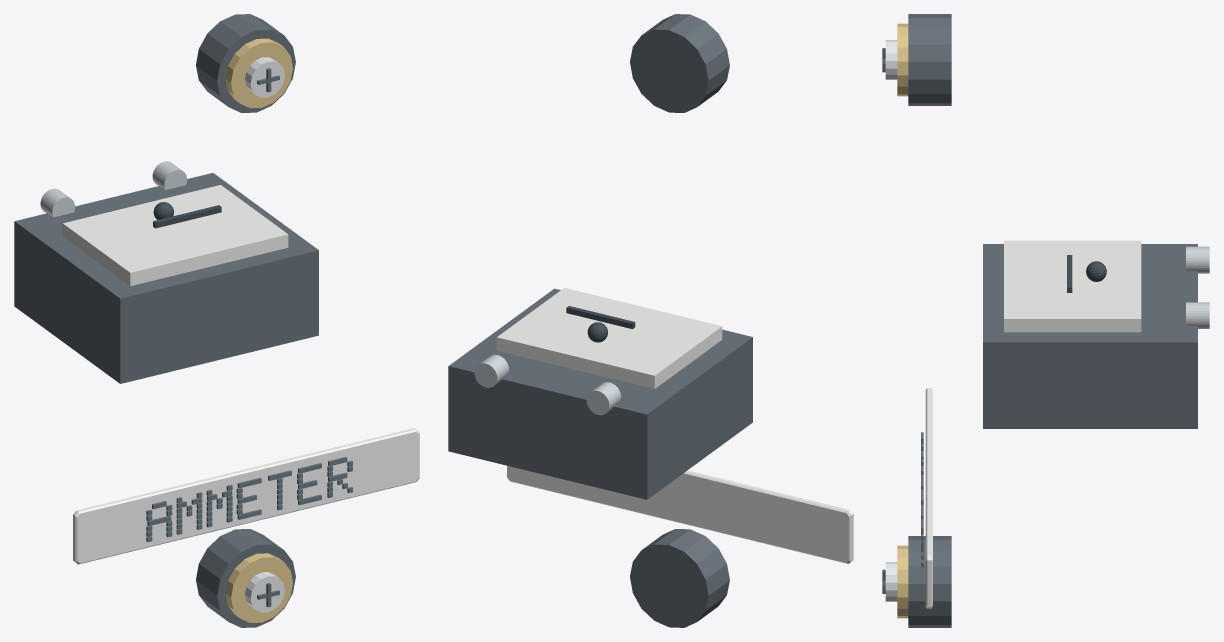
The model's file is ammeter.glb.
3 views of the same model, side by side, from view 1: azimuth 30°, elevation 25°; view 2: azimuth 150°, elevation 25°; view 3: azimuth 270°, elevation 25° (orthographic).
Parts seen in each view (by area): view 1: ammeter-preview; view 2: ammeter-preview; view 3: ammeter-preview.
Boxes of the visible parts, x1,y1,x2,y2 form: ammeter-preview: (14,14,419,627); ammeter-preview: (448,14,853,627); ammeter-preview: (882,14,1209,627).
Size of the model in its own units: 1.37 by 2.27 by 1.11.
